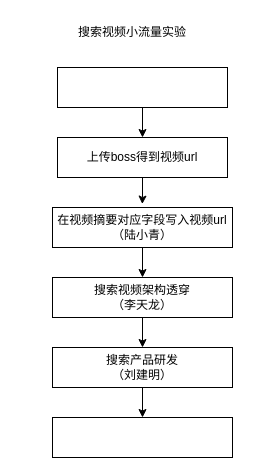
The diagram is 264 pixels wide and 475 high, and some of its shapes have lost their labels. The shapes that lost their labels are listed below. From the top down, each one's box as (x1, y1, x2, y2) in pixels, then its label:
(56, 66, 228, 108): 通过清晰度重建得到新的视频 （王晓浩）
(52, 416, 232, 458): 端上同学展现
